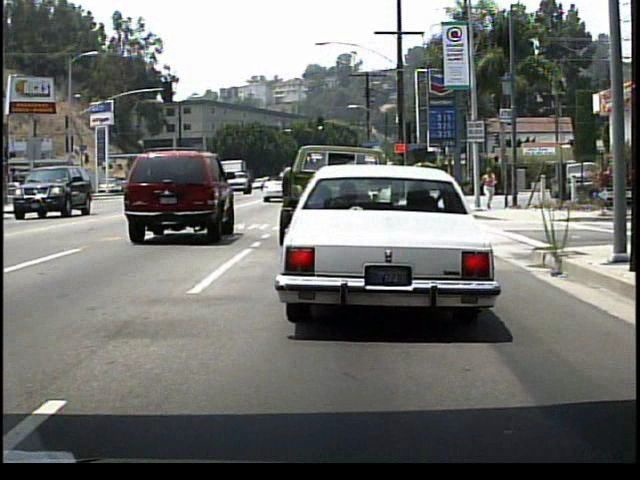person: (481, 166, 498, 211)
